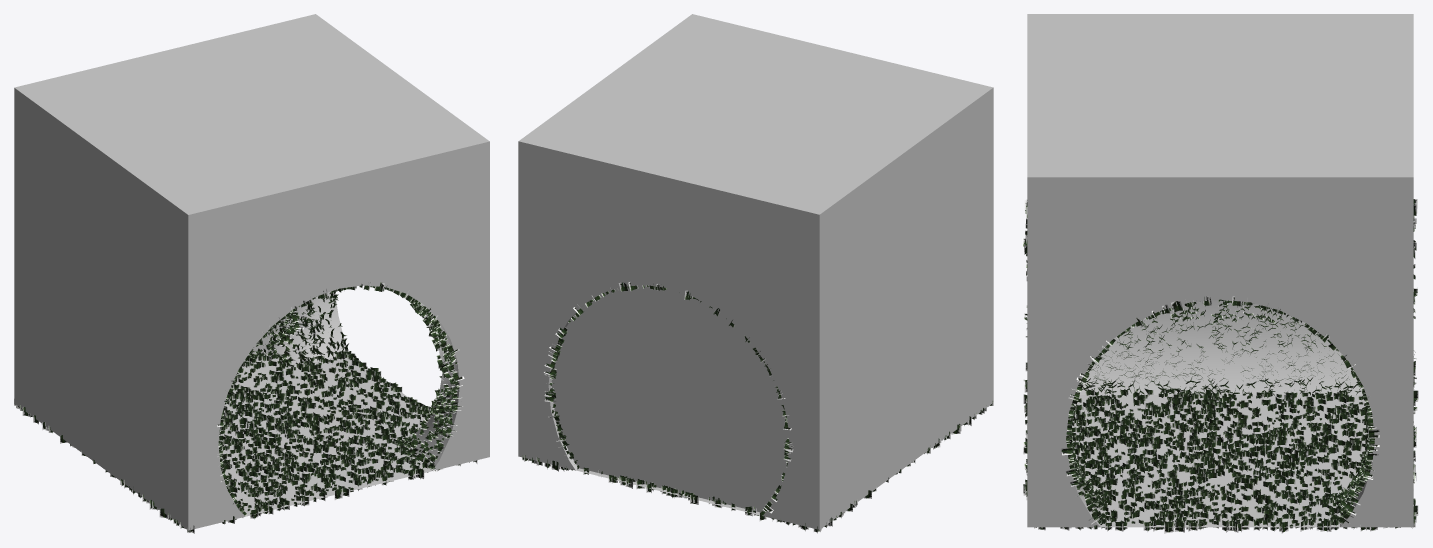
Rendered from Stage1Corner.fbx.
3 renders of one model, left to right at view 1: azimuth 30°, elevation 25°; view 2: azimuth 150°, elevation 25°; view 3: azimuth 270°, elevation 25°, orthographic. The views are drawn at different scales.
Parts seen in each view (by area): view 1: Cube, Scattered_Tunnel_Ivy_Road, Road, Scattered_Tunnel_Ivy_Corner; view 2: Cube, Scattered_Tunnel_Ivy_Corner, Scattered_Tunnel_Ivy_Road; view 3: Cube, Scattered_Tunnel_Ivy_Road, Road, Scattered_Tunnel_Ivy_Corner.
Boxes of the visible parts, left/top/right/bottom form: Cube: left=14, top=14, right=489, bottom=530; Scattered_Tunnel_Ivy_Road: left=14, top=351, right=477, bottom=533; Road: left=220, top=354, right=431, bottom=516; Scattered_Tunnel_Ivy_Corner: left=217, top=281, right=464, bottom=518; Cube: left=518, top=14, right=993, bottom=529; Scattered_Tunnel_Ivy_Corner: left=544, top=282, right=793, bottom=513; Scattered_Tunnel_Ivy_Road: left=522, top=400, right=993, bottom=533; Cube: left=1027, top=14, right=1413, bottom=527; Scattered_Tunnel_Ivy_Road: left=1023, top=361, right=1418, bottom=533; Road: left=1072, top=395, right=1368, bottom=527; Scattered_Tunnel_Ivy_Corner: left=1022, top=199, right=1418, bottom=527.
Bounding box in the file's own units: 20.47 × 20.39 × 20.51.
